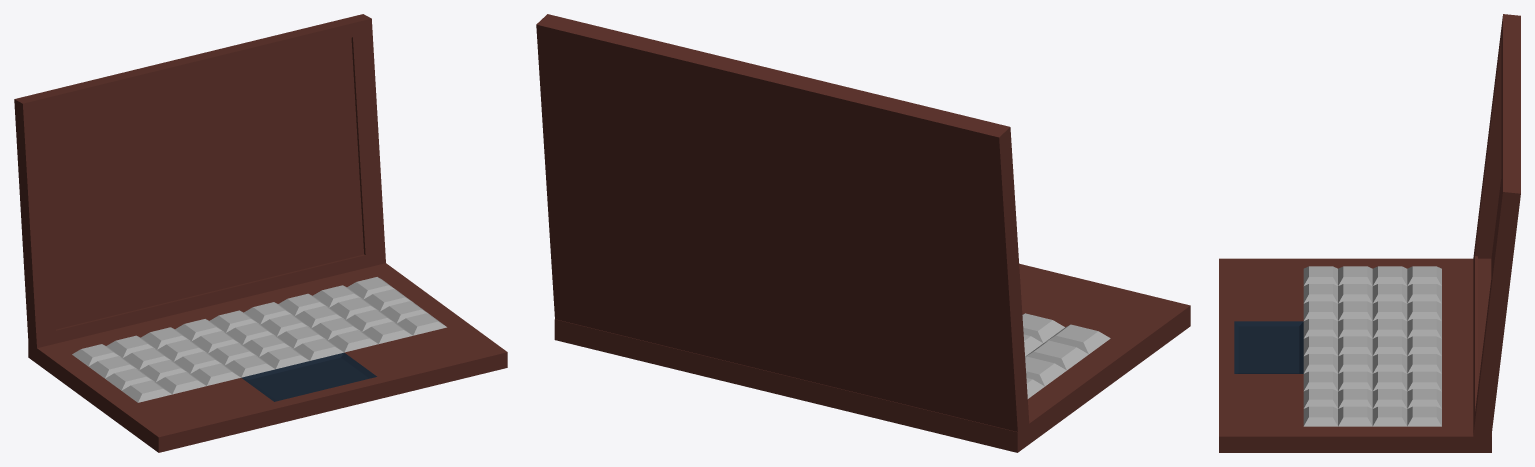
Rendered from laptop.glb.
The picture shows the model from 3 angles, left to right: view 1: azimuth 30°, elevation 25°; view 2: azimuth 150°, elevation 25°; view 3: azimuth 270°, elevation 25°; orthographic projection. The views are drawn at different scales.
Visible parts, largest first — view 1: Notebook; view 2: Notebook; view 3: Notebook.
Part boxes in pixels (<box>): Notebook: <box>14,14,507,452</box>; Notebook: <box>536,14,1190,452</box>; Notebook: <box>1219,14,1520,452</box>.
Size of the model in its own units: 11.65 by 7.97 by 8.35.
